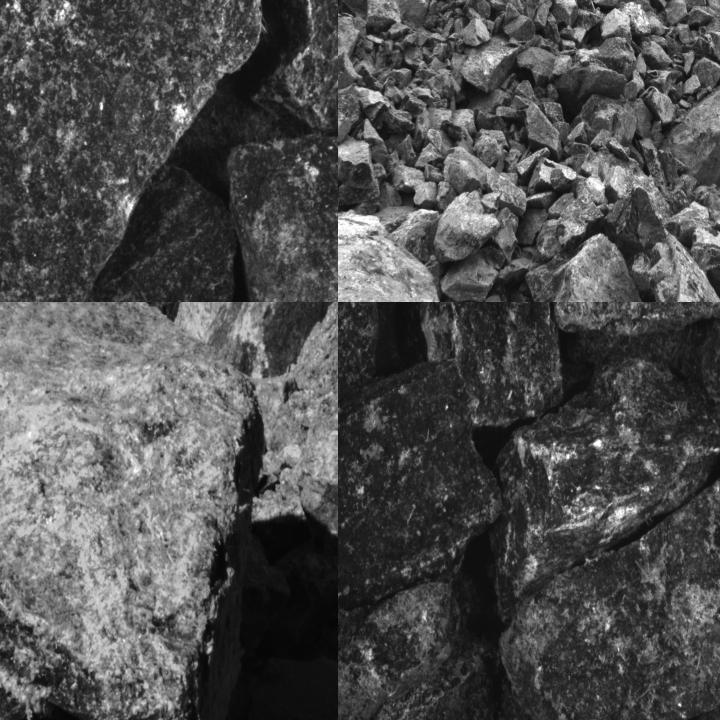stone: (0, 302, 257, 719), (0, 0, 264, 301), (491, 355, 719, 620), (497, 449, 719, 719), (338, 361, 500, 615), (28, 163, 236, 301), (338, 211, 598, 301), (227, 116, 337, 301), (408, 302, 563, 426), (338, 582, 460, 719), (604, 182, 719, 301), (248, 0, 337, 136), (374, 635, 504, 719), (525, 233, 645, 301), (294, 383, 337, 559), (658, 68, 719, 186), (558, 36, 636, 112), (432, 188, 500, 262), (440, 245, 506, 301), (460, 33, 517, 92), (340, 0, 427, 33), (555, 190, 602, 250), (442, 138, 489, 195), (392, 209, 439, 263), (525, 101, 563, 159), (690, 226, 719, 301), (338, 136, 376, 192), (518, 47, 571, 86), (486, 167, 527, 217), (354, 86, 390, 129), (491, 209, 519, 262), (642, 86, 678, 124), (515, 207, 548, 246), (364, 118, 388, 167), (598, 8, 631, 41), (698, 26, 719, 73), (392, 164, 424, 194), (338, 52, 363, 90), (639, 41, 673, 68), (475, 134, 503, 166), (691, 57, 719, 88), (503, 15, 536, 41), (460, 18, 490, 45), (685, 4, 716, 29), (552, 0, 579, 27), (551, 168, 576, 194), (435, 181, 456, 211), (540, 103, 565, 123), (338, 112, 351, 148), (675, 23, 693, 44), (389, 22, 410, 39), (482, 192, 499, 212), (682, 50, 695, 75), (425, 164, 443, 182), (646, 0, 667, 14), (477, 293, 512, 301)
